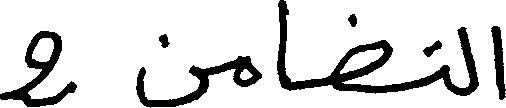X: (0, 26, 75, 107), (136, 29, 208, 107), (335, 9, 390, 98), (459, 22, 477, 100), (491, 21, 505, 104), (234, 51, 261, 91), (436, 35, 449, 94), (278, 0, 284, 107)
